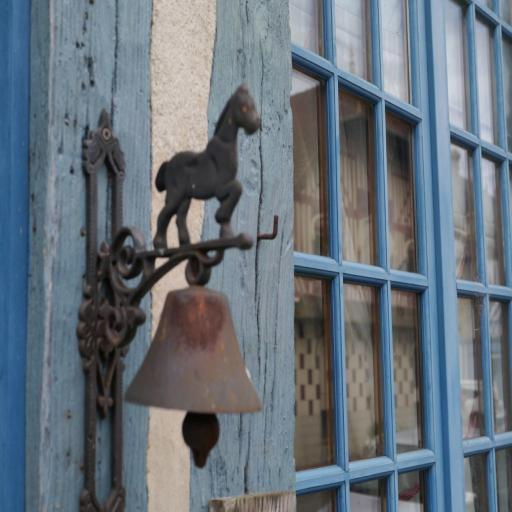horse: (150, 82, 262, 250)
